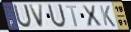K: (99, 5, 117, 28)
T: (65, 5, 79, 28)
U: (46, 3, 68, 29), (12, 3, 33, 29)
V: (28, 4, 44, 29)
X: (80, 5, 103, 28)
